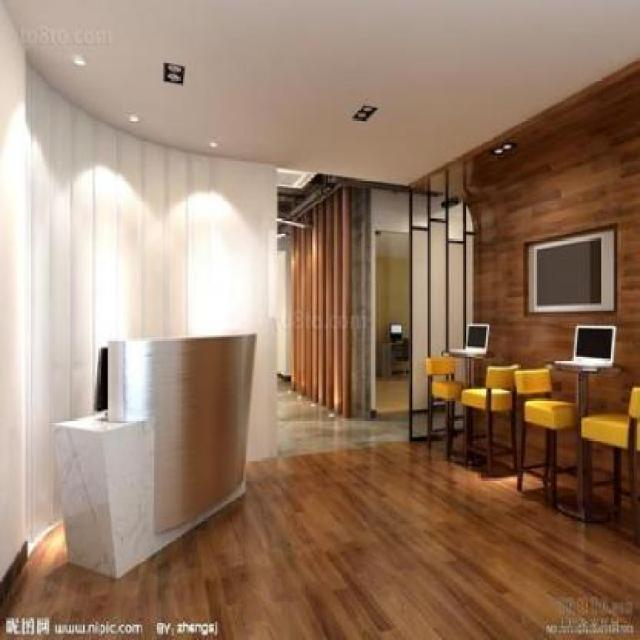frontdesk: (54, 318, 268, 590)
